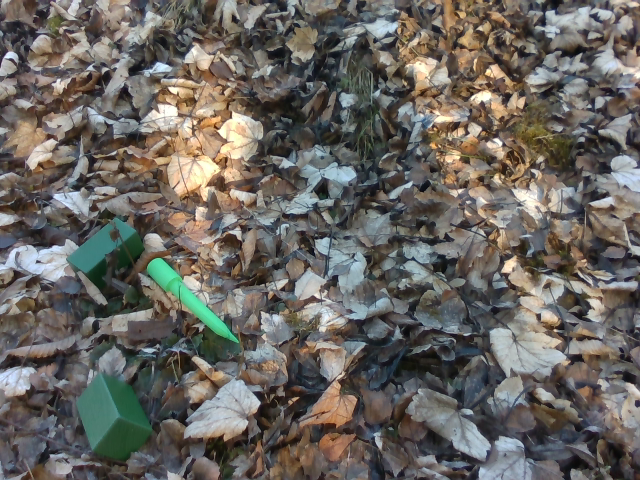Probe: (144, 256, 242, 347)
